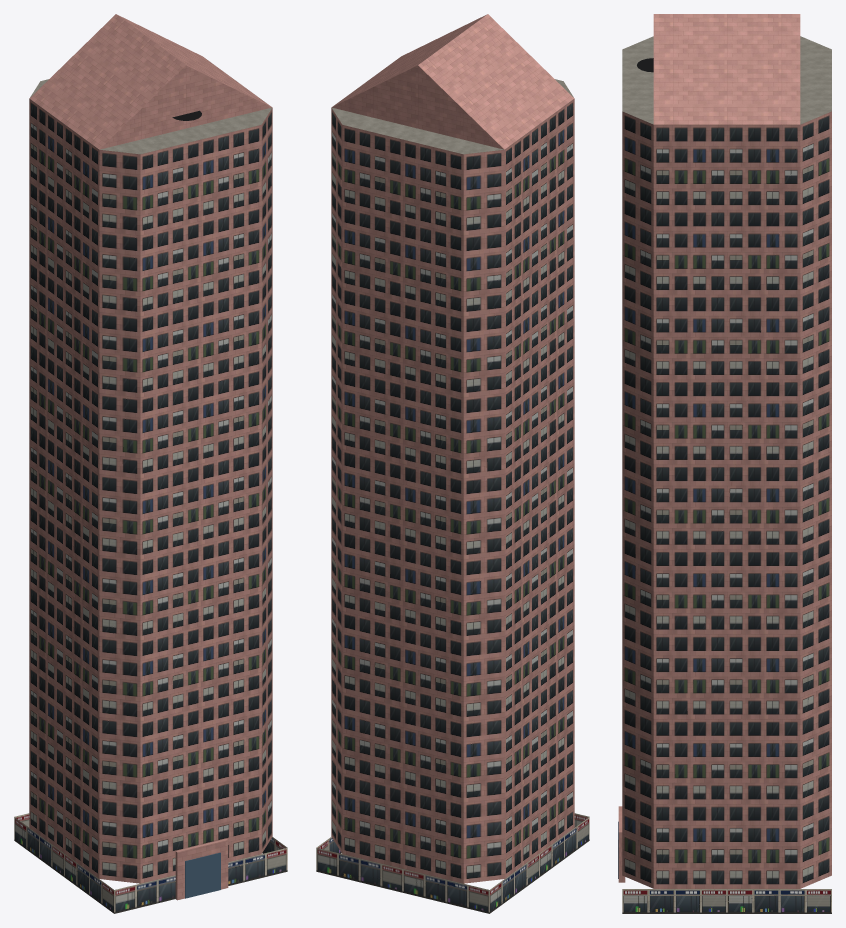
File: 045_postmodern_gable.glb
The picture shows the model from 3 angles, left to right: view 1: azimuth 30°, elevation 25°; view 2: azimuth 150°, elevation 25°; view 3: azimuth 270°, elevation 25°; orthographic projection. The views are drawn at different scales.
Parts seen in each view (by area): view 1: 045_postmodern_gable; view 2: 045_postmodern_gable; view 3: 045_postmodern_gable.
Boxes of the visible parts, <box> form: 045_postmodern_gable: <box>14,14,287,913</box>; 045_postmodern_gable: <box>316,14,589,913</box>; 045_postmodern_gable: <box>618,14,831,913</box>.
Size of the model in its own units: 34 by 153 by 34.7.
Materials: 7 (5 with a texture image).
